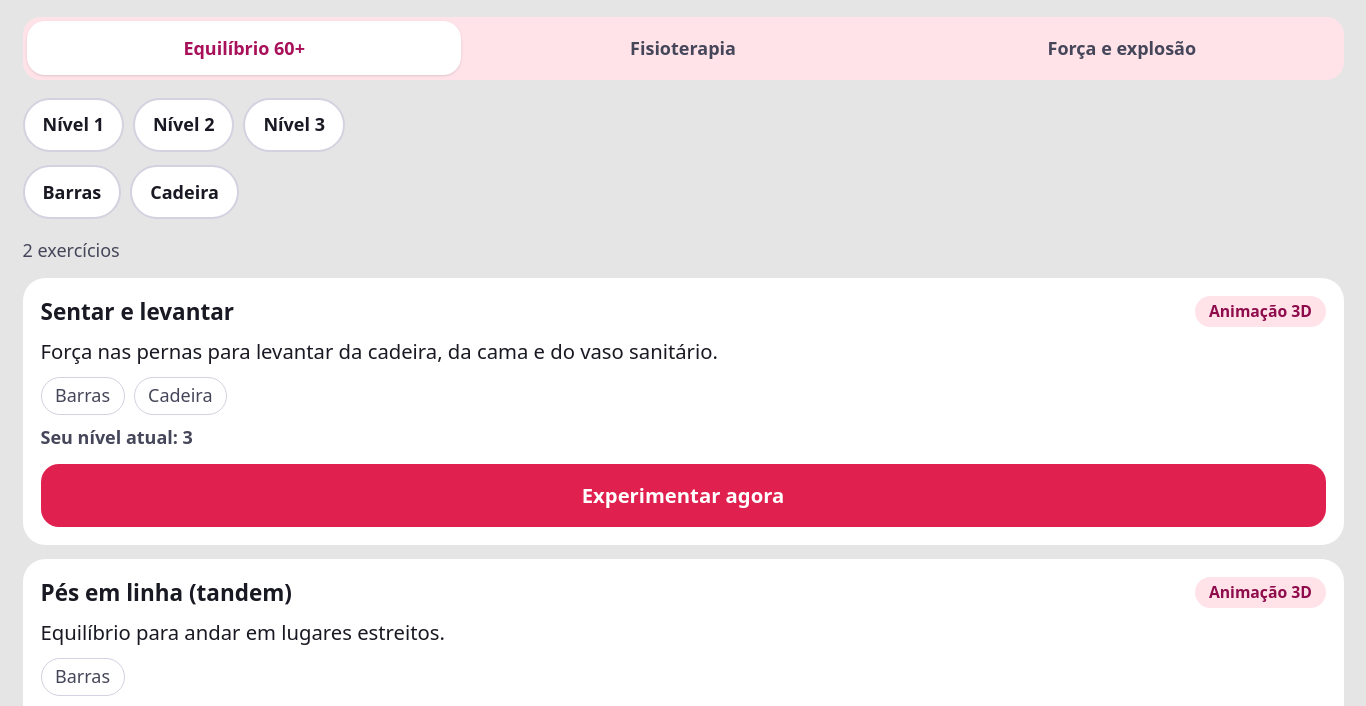
it: clicar na outra aba troca os exercícios
This screenshot has width=1366, height=706.
Click the tab "Fisioterapia". click: x=683, y=48
box: [466, 21, 900, 75]
(page scrolled)
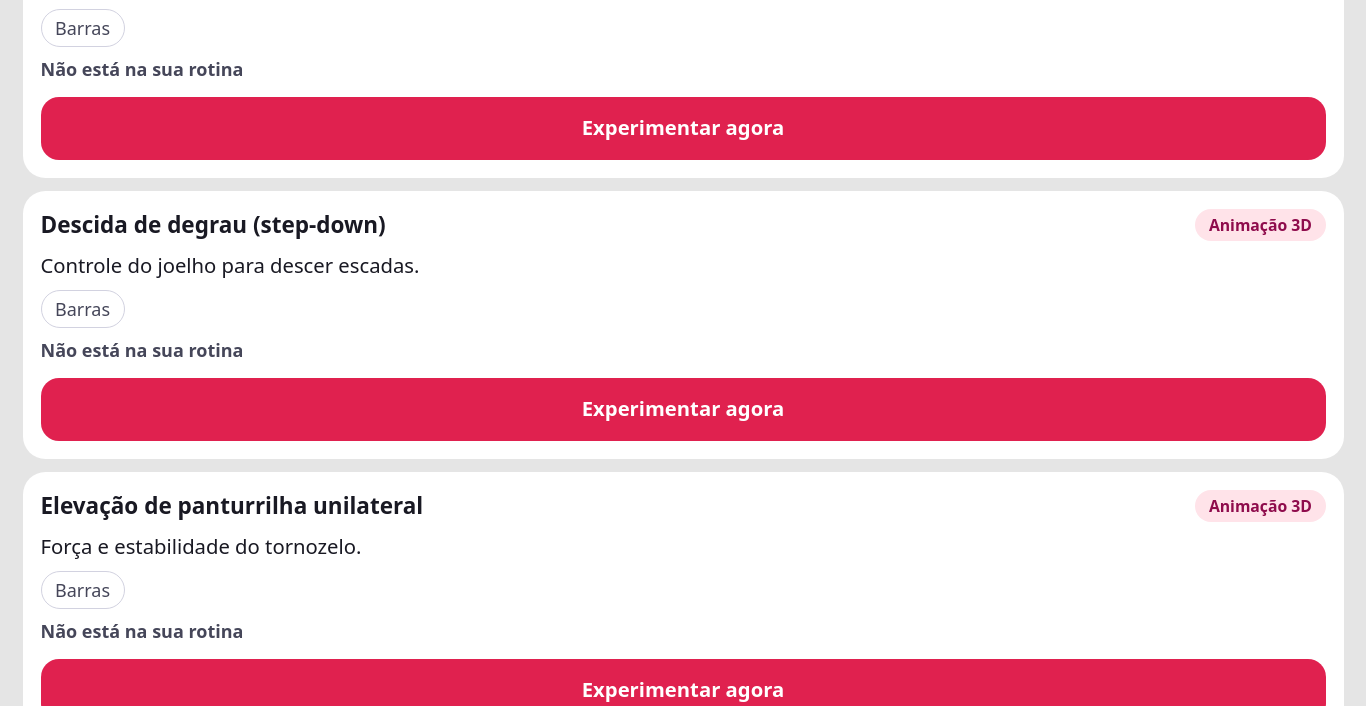
Check: the element "Descida de degrau (step-down)" is shown, box [22, 191, 1344, 458]
Check: the heading "Sentar e levantar" is gone
